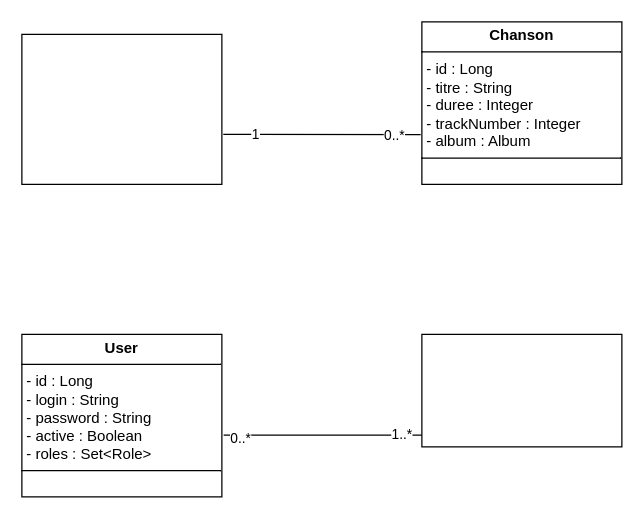
Image size: 644x519. Some labels were removed from this diagram. Each missing label, with the centre of its shape:
Album - id : Long - titre : String - artiste : String - annee : Integer: the point at 121,108
Role - id : Long - name : String: the point at 521,390
